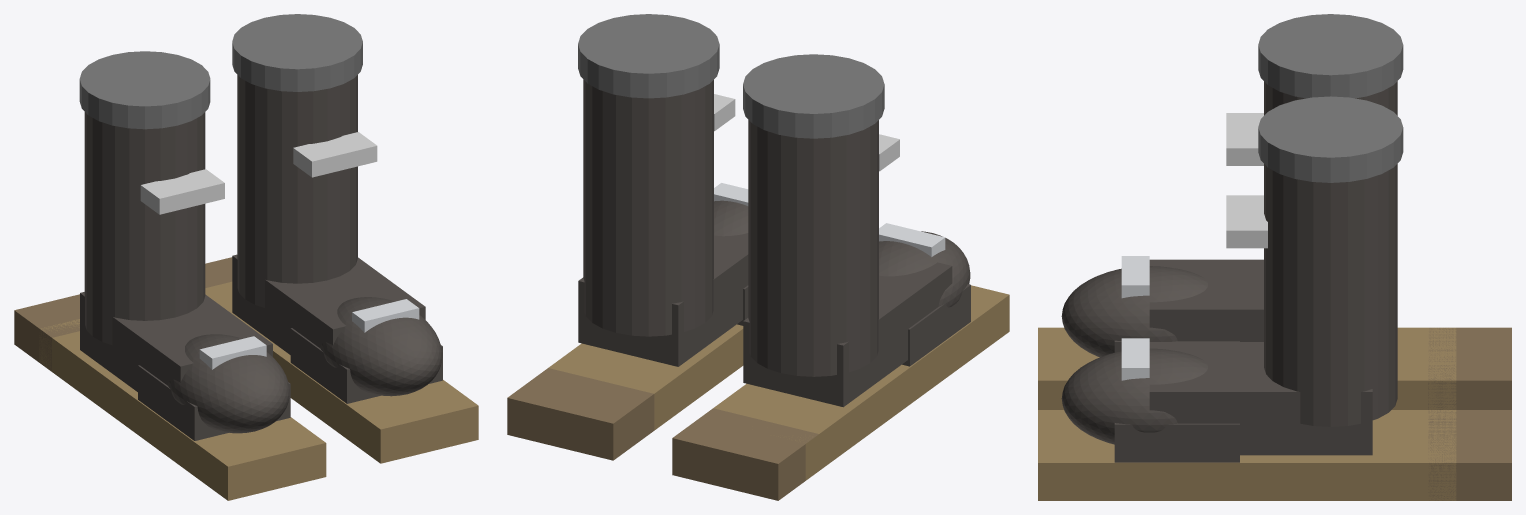
File: ppe_safety_boots.glb
3 renders of one model, left to right at view 1: azimuth 30°, elevation 25°; view 2: azimuth 150°, elevation 25°; view 3: azimuth 270°, elevation 25°, orthographic. The views are drawn at different scales.
Parts seen in each view (by area): view 1: ppe_safety_boots_4, ppe_safety_boots_13, ppe_safety_boots_0, ppe_safety_boots_9, ppe_safety_boots_6, ppe_safety_boots_15, ppe_safety_boots_11, ppe_safety_boots_2, ppe_safety_boots_12, ppe_safety_boots_3, ppe_safety_boots_7, ppe_safety_boots_5 (+6 smaller); view 2: ppe_safety_boots_4, ppe_safety_boots_13, ppe_safety_boots_0, ppe_safety_boots_6, ppe_safety_boots_15, ppe_safety_boots_16, ppe_safety_boots_7, ppe_safety_boots_3, ppe_safety_boots_9, ppe_safety_boots_12, ppe_safety_boots_2, ppe_safety_boots_1 (+5 smaller); view 3: ppe_safety_boots_13, ppe_safety_boots_9, ppe_safety_boots_12, ppe_safety_boots_15, ppe_safety_boots_6, ppe_safety_boots_0, ppe_safety_boots_11, ppe_safety_boots_3, ppe_safety_boots_2, ppe_safety_boots_16, ppe_safety_boots_7, ppe_safety_boots_10 (+5 smaller).
Boxes of the visible parts, bbox=[...] form: ppe_safety_boots_4: bbox=[84, 112, 205, 344]; ppe_safety_boots_13: bbox=[237, 75, 357, 307]; ppe_safety_boots_0: bbox=[39, 319, 326, 500]; ppe_safety_boots_9: bbox=[205, 281, 478, 463]; ppe_safety_boots_6: bbox=[79, 51, 210, 129]; ppe_safety_boots_15: bbox=[232, 14, 362, 91]; ppe_safety_boots_11: bbox=[320, 297, 442, 396]; ppe_safety_boots_2: bbox=[168, 334, 289, 433]; ppe_safety_boots_12: bbox=[232, 254, 425, 354]; ppe_safety_boots_3: bbox=[80, 292, 272, 391]; ppe_safety_boots_7: bbox=[14, 294, 79, 371]; ppe_safety_boots_5: bbox=[140, 169, 224, 214]; ppe_safety_boots_4: bbox=[748, 120, 878, 376]; ppe_safety_boots_13: bbox=[583, 79, 713, 336]; ppe_safety_boots_0: bbox=[713, 285, 1009, 480]; ppe_safety_boots_6: bbox=[743, 54, 884, 138]; ppe_safety_boots_15: bbox=[578, 14, 719, 98]; ppe_safety_boots_16: bbox=[507, 368, 654, 460]; ppe_safety_boots_7: bbox=[672, 408, 818, 500]; ppe_safety_boots_3: bbox=[743, 262, 952, 407]; ppe_safety_boots_9: bbox=[548, 324, 743, 430]; ppe_safety_boots_12: bbox=[578, 233, 748, 366]; ppe_safety_boots_2: bbox=[879, 231, 970, 307]; ppe_safety_boots_1: bbox=[902, 284, 970, 366]; ppe_safety_boots_13: bbox=[1264, 164, 1397, 426]; ppe_safety_boots_9: bbox=[1038, 410, 1456, 500]; ppe_safety_boots_12: bbox=[1149, 342, 1372, 455]; ppe_safety_boots_15: bbox=[1258, 96, 1403, 182]; ppe_safety_boots_6: bbox=[1258, 14, 1403, 98]; ppe_safety_boots_0: bbox=[1038, 327, 1456, 409]; ppe_safety_boots_11: bbox=[1061, 348, 1207, 444]; ppe_safety_boots_3: bbox=[1149, 259, 1263, 341]; ppe_safety_boots_2: bbox=[1061, 266, 1207, 357]; ppe_safety_boots_16: bbox=[1428, 410, 1511, 500]; ppe_safety_boots_7: bbox=[1428, 327, 1511, 409]; ppe_safety_boots_10: bbox=[1114, 423, 1239, 462].
Size of the model in its own units: 0.244 by 0.275 by 0.34.
